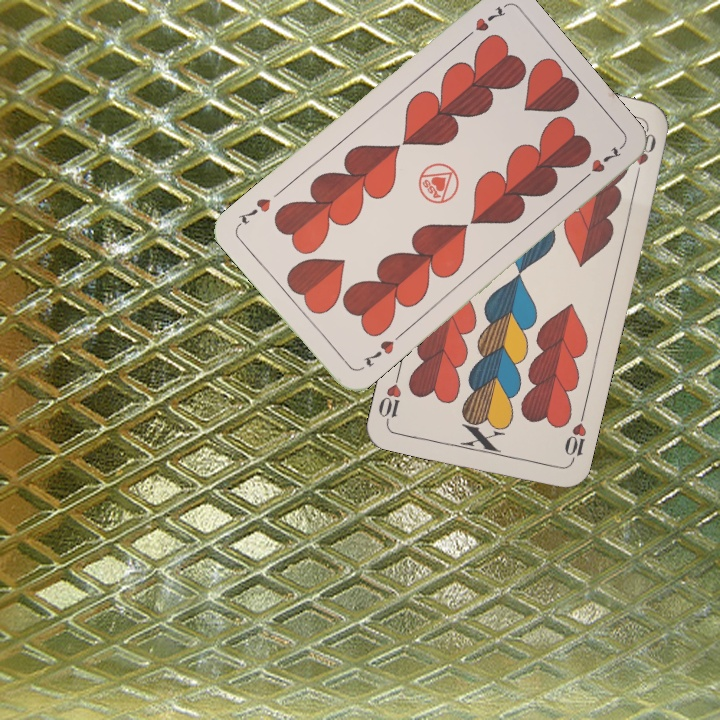H10: (560, 409, 589, 467)
H7: (458, 1, 509, 44), (359, 336, 397, 369)
